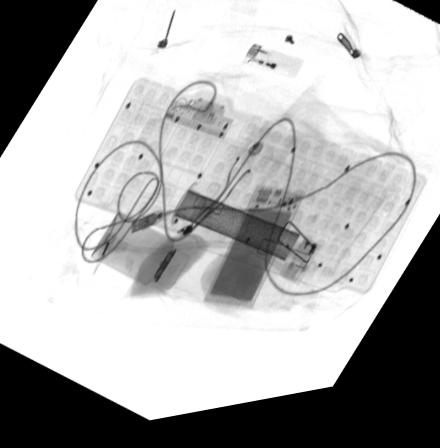Lighter: (242, 52, 304, 89)
Powerbank: (202, 191, 305, 317)
Sprayer: (89, 216, 189, 295)
